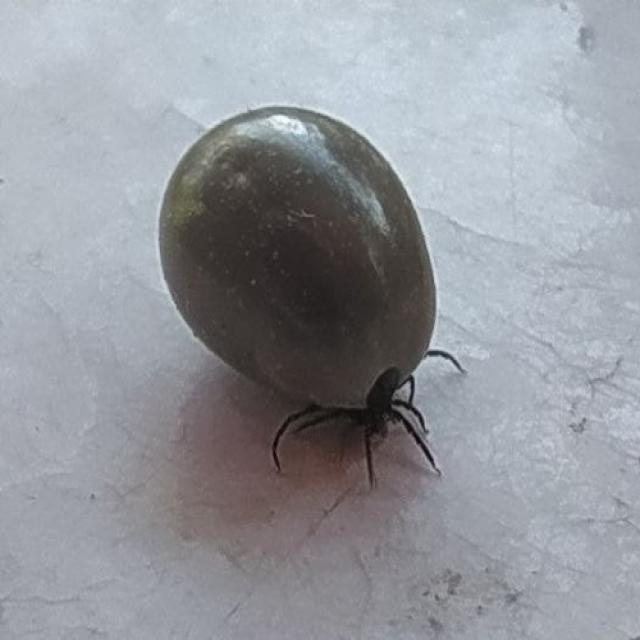Ixodes Ricinus-F-Fed: (156, 105, 454, 491)
